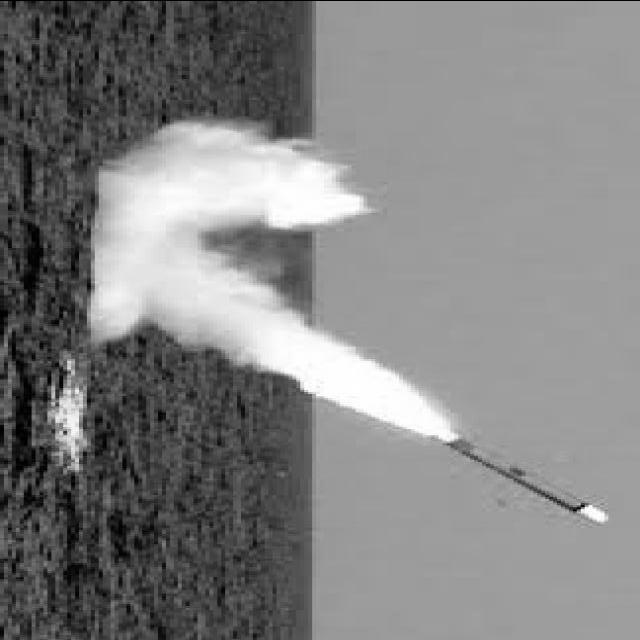Missile: (437, 431, 622, 528)
